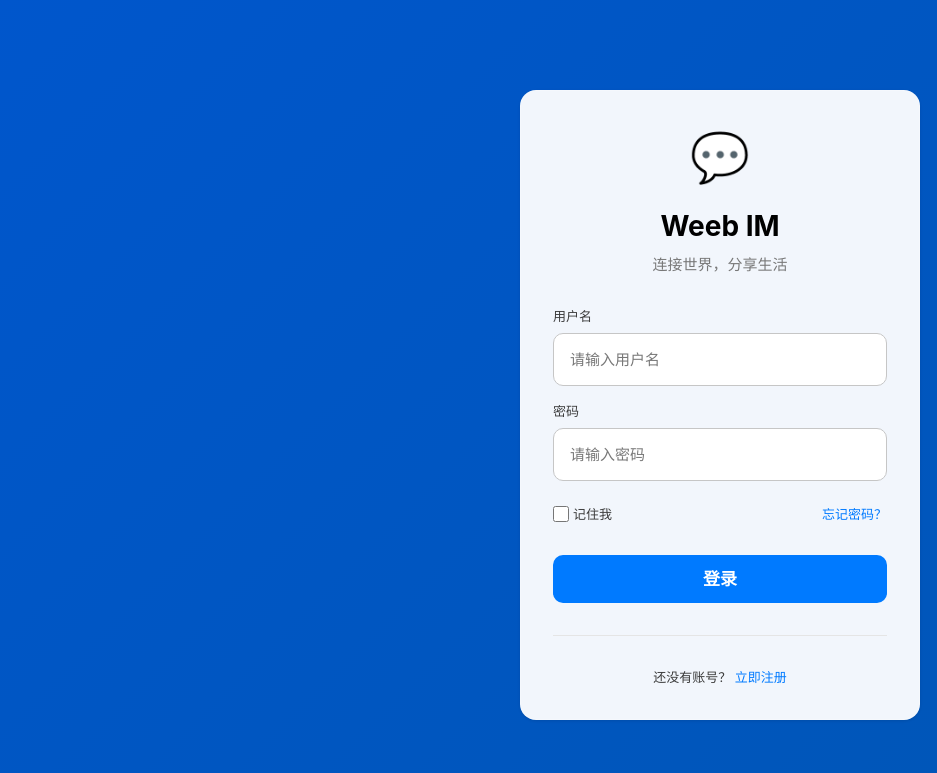
page continuations after account switching › still shows a failed login belonging to the active attempt
Type "a" into the field with id "username" at (720, 360), box x1=553 y1=333 x2=887 y2=386
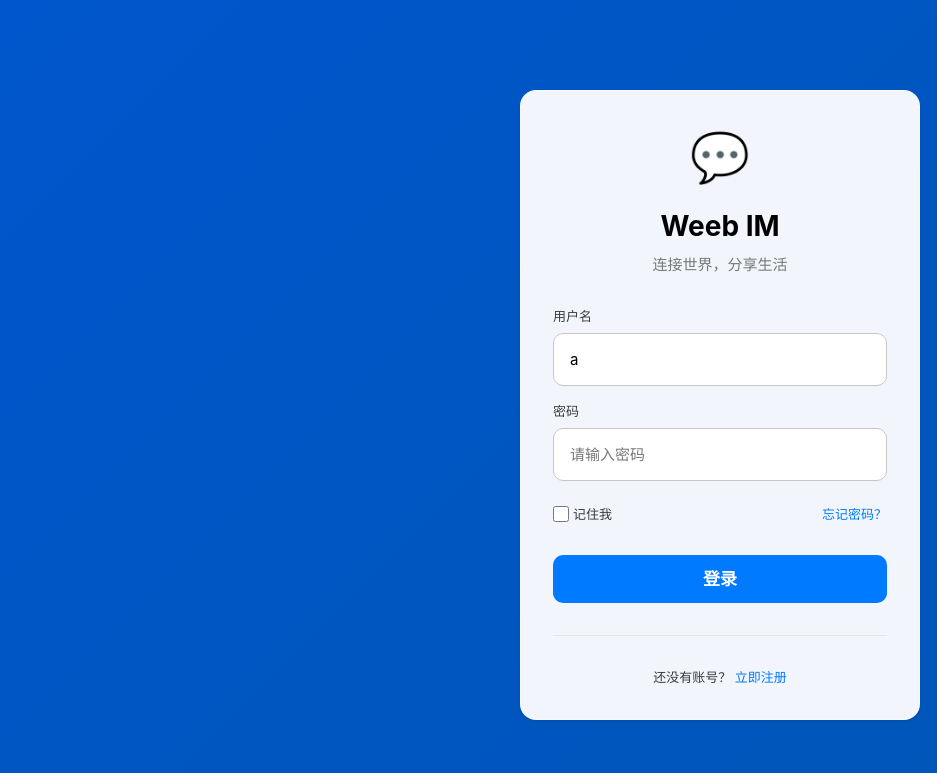
Type "wrong-password" into the password field labelled "密码" at (720, 455), box x1=553 y1=428 x2=887 y2=481
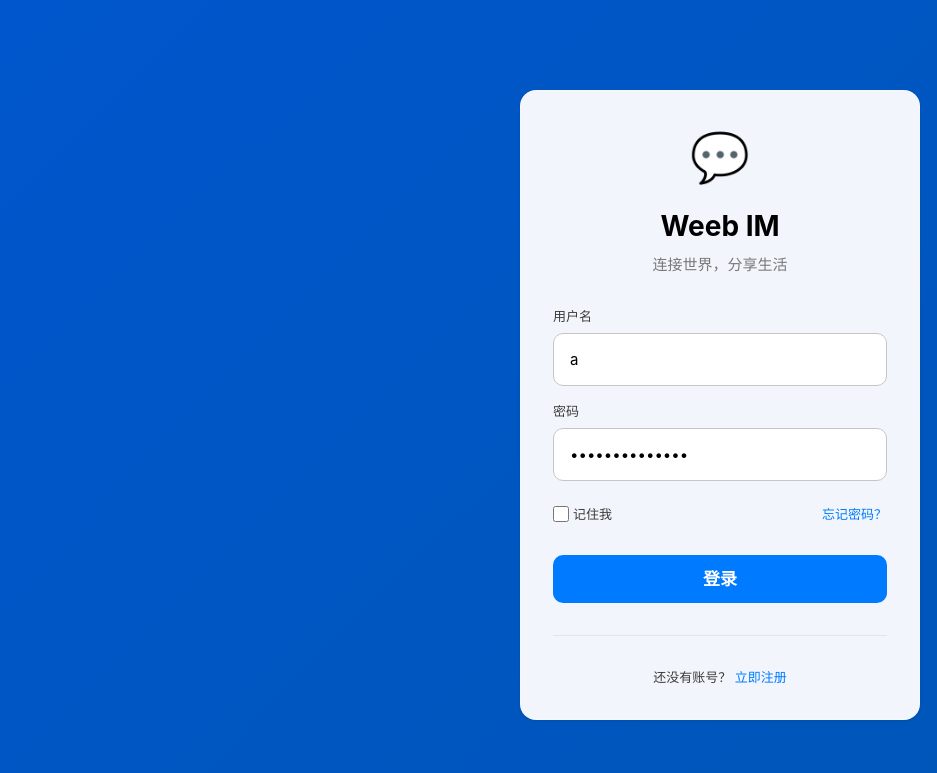
Submit the form, box x1=553 y1=307 x2=887 y2=687
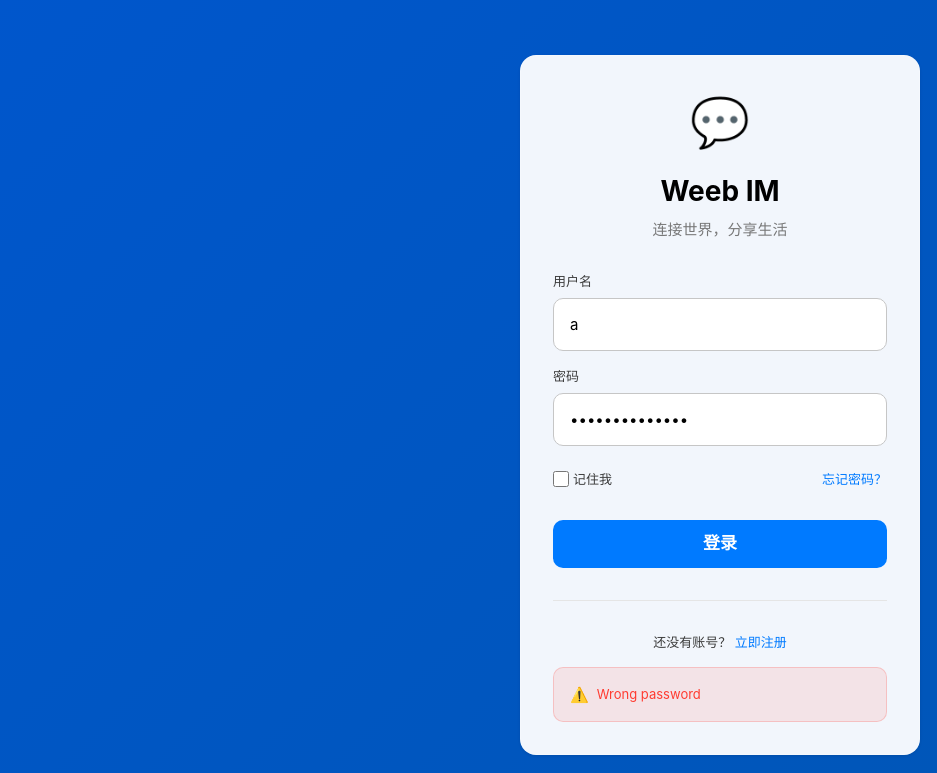
Expected: the password field labelled "密码" is enabled, x1=553 y1=393 x2=887 y2=446
Result: the text "Wrong password" is shown at x1=597 y1=686 x2=701 y2=704
